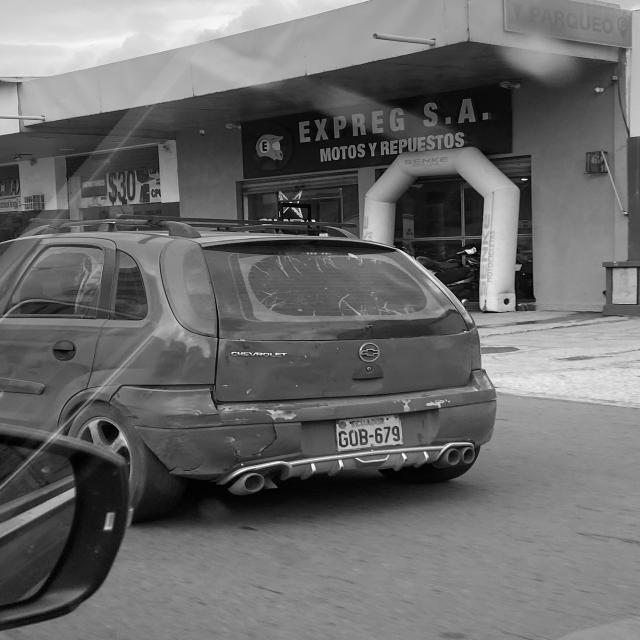Placa: (336, 415, 402, 450)
